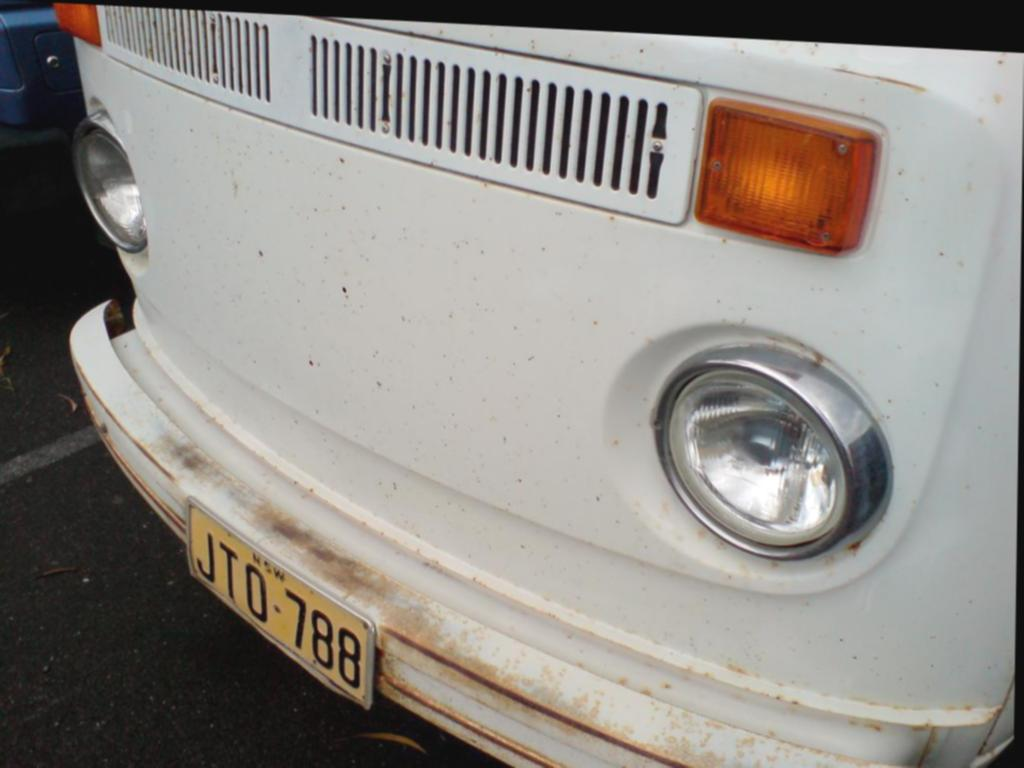License_Plate: (213, 544, 380, 717)
